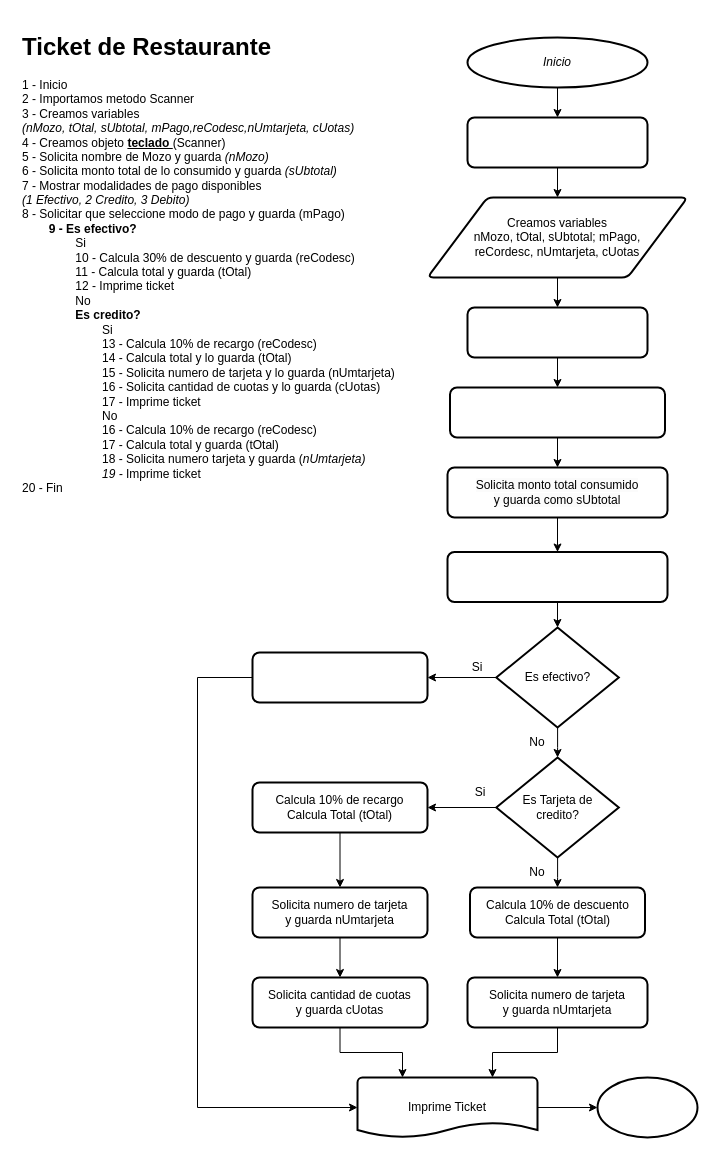
Image size: 715x1155. Some labels were removed from this diagram. Here are the shapes that lost their labels. From the top down, the box of each, then its label:
(466, 116, 648, 168): Importamos metodo Scanner
(466, 306, 648, 358): Creamos objeto "teclado"
(448, 386, 666, 438): Solicita Nombre de Mozo y guarda nMozo
(446, 550, 668, 602): Muestra modalidades de pago y guarda eleccion mPago
(251, 651, 428, 703): Calcula 30% de descuento Calcula Total (tOtal)
(596, 1076, 698, 1138): Fin
